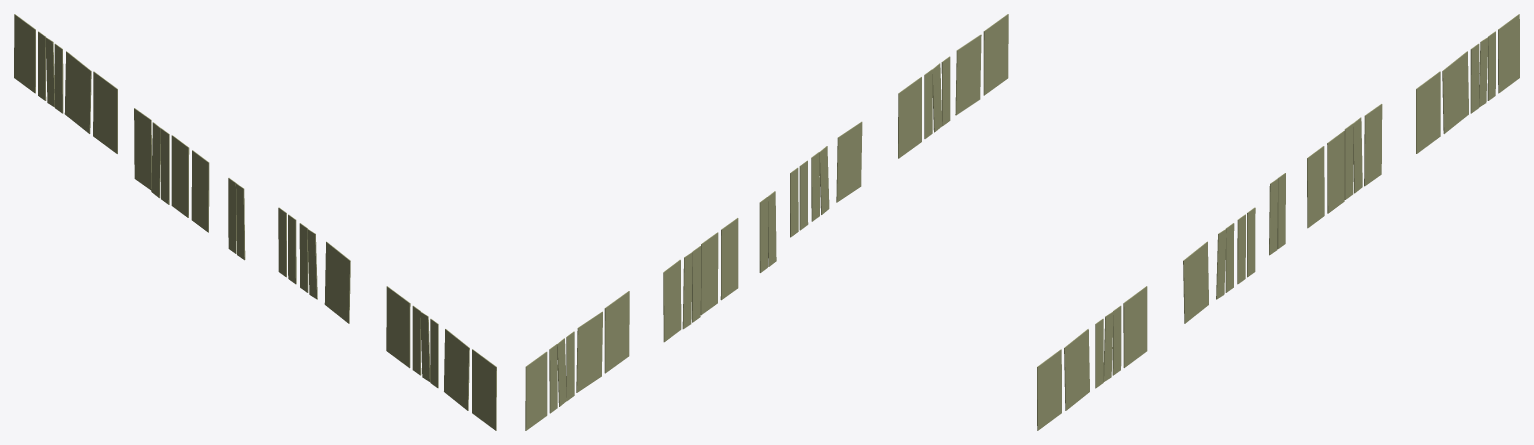
The model's file is WindowPlating.fbx.
The picture shows the model from 3 angles, left to right: view 1: azimuth 30°, elevation 25°; view 2: azimuth 150°, elevation 25°; view 3: azimuth 330°, elevation 25°; orthographic projection.
Parts seen in each view (by area): view 1: WindowPlatingMesh; view 2: WindowPlatingMesh; view 3: WindowPlatingMesh.
Part boxes in pixels (box(x1,y1,x2,y2)): WindowPlatingMesh: box(14, 14, 496, 430); WindowPlatingMesh: box(525, 14, 1008, 430); WindowPlatingMesh: box(1037, 14, 1519, 430).
Size of the model in its own units: 0.3407 by 2.17 by 26.71.
